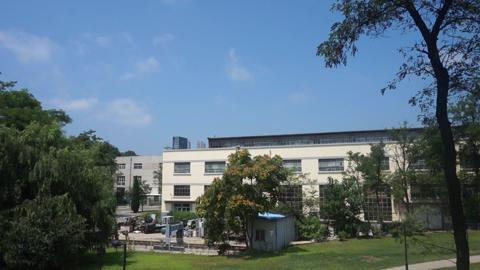UAV: (235, 146, 243, 150)
